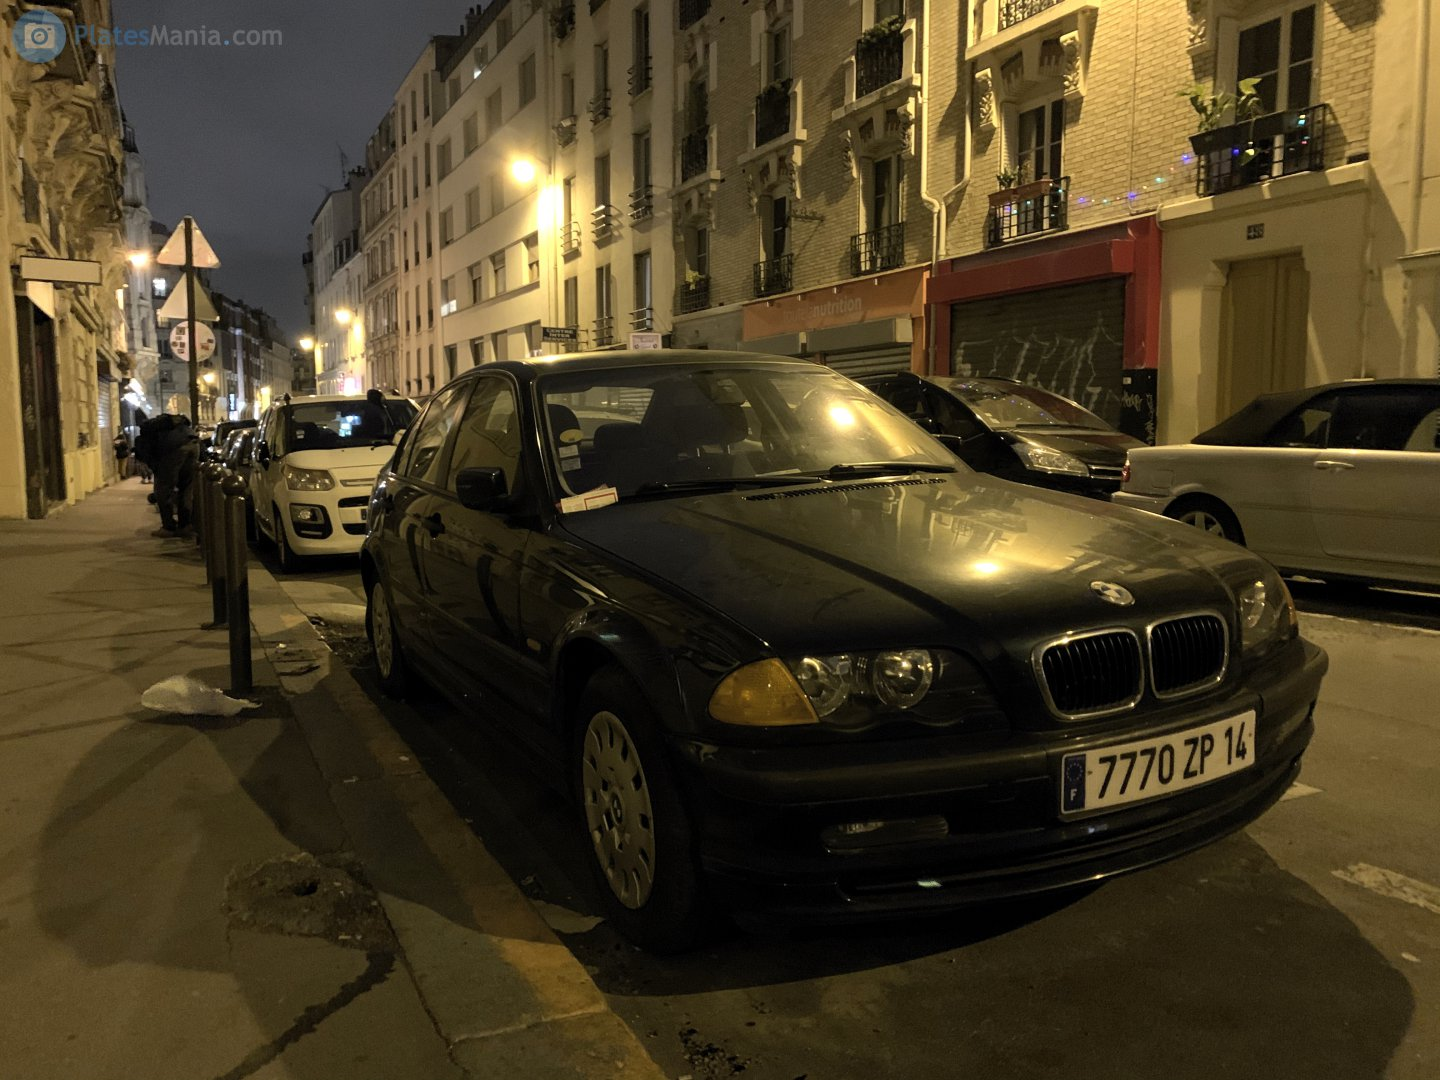licence plate: (1059, 709, 1257, 818)
